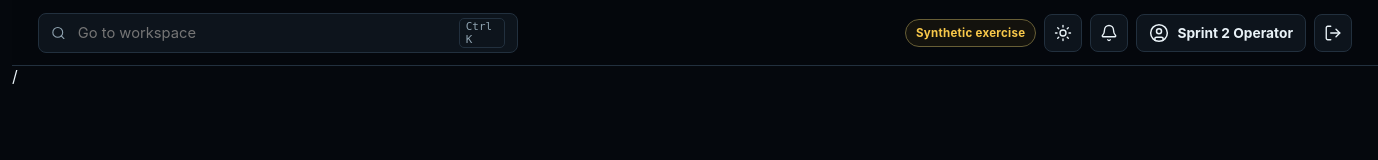
Test: navigates from command search results
Type "Audit" into the dropdown named "Command" at (262, 32), box [76,22,449,42]
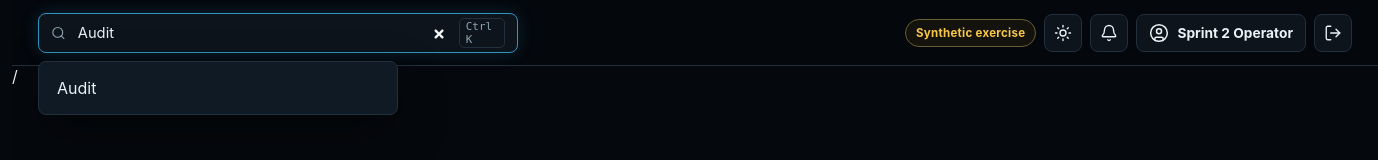
Click the option "Audit" at (77, 88), box [47,70,389,106]
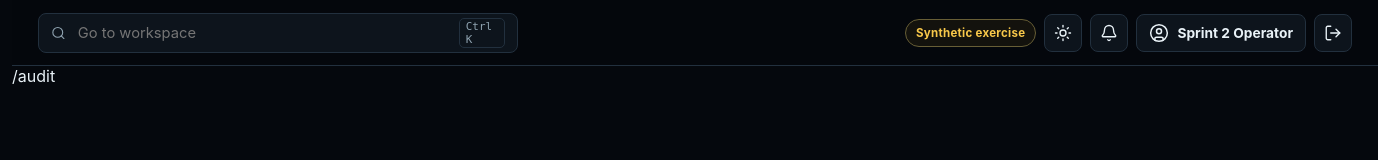
Result: the text with test id "location" reads "/audit" at [12,66,55,86]
